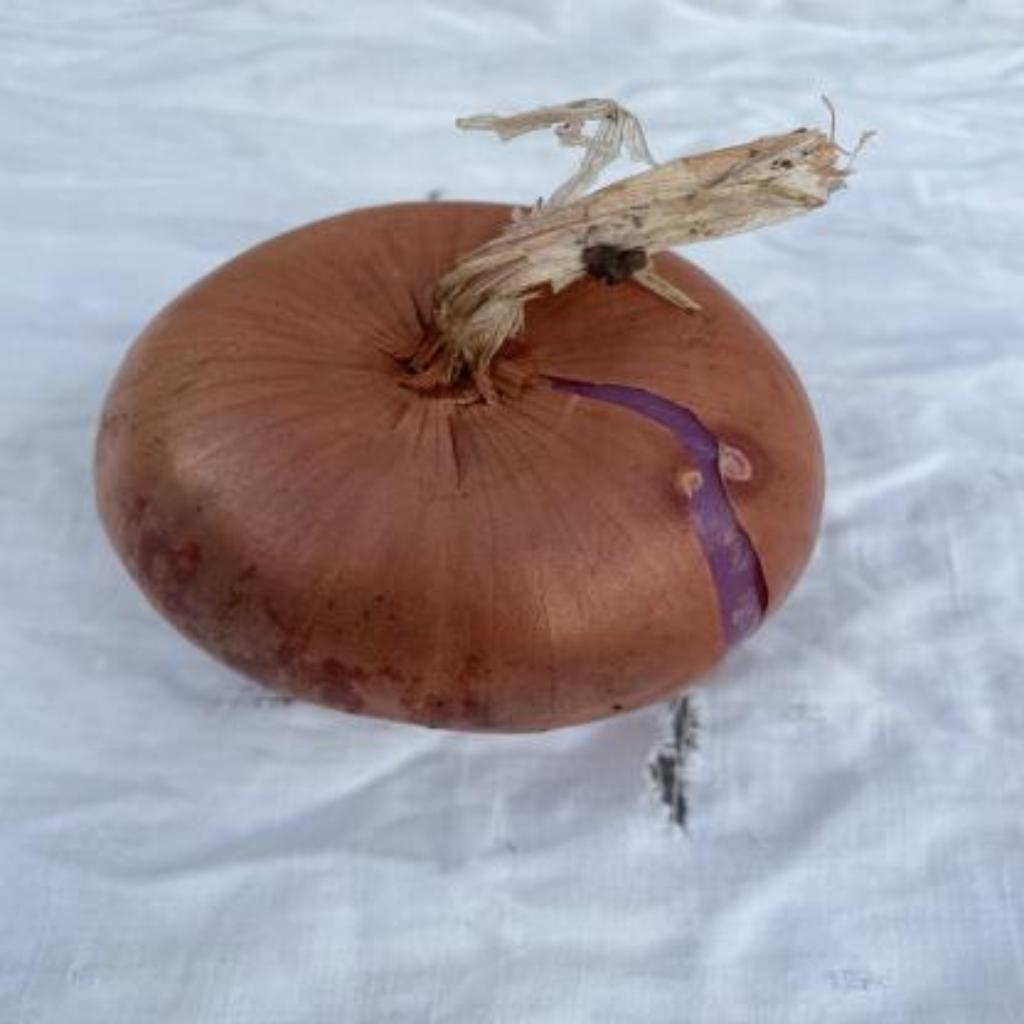Onion: (96, 98, 859, 732)
